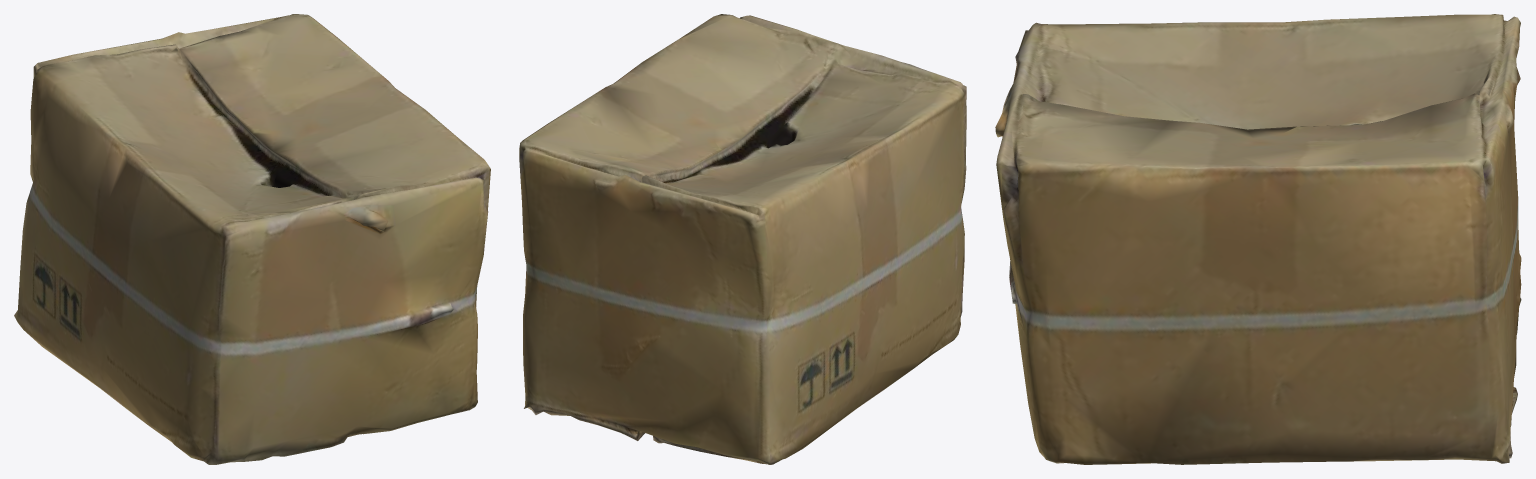
File: cardboard_box_01.glb
The picture shows the model from 3 angles, left to right: view 1: azimuth 30°, elevation 25°; view 2: azimuth 150°, elevation 25°; view 3: azimuth 270°, elevation 25°; orthographic projection. The views are drawn at different scales.
Parts seen in each view (by area): view 1: cardboard_box_01; view 2: cardboard_box_01; view 3: cardboard_box_01.
Boxes of the visible parts, left/top/right/bottom form: cardboard_box_01: left=14, top=14, right=490, bottom=464; cardboard_box_01: left=519, top=14, right=966, bottom=464; cardboard_box_01: left=995, top=14, right=1521, bottom=464.
Size of the model in its own units: 0.3868 by 0.3418 by 0.5159.
1 material, 1 textured.
